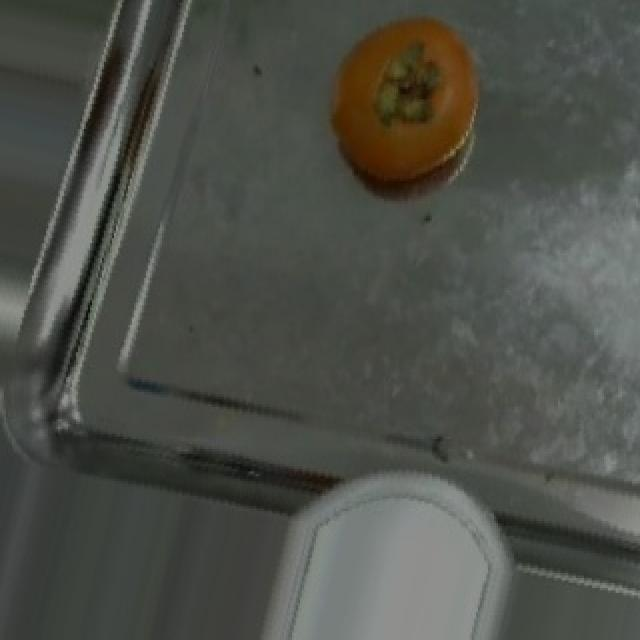Fruit: (306, 0, 504, 206), (272, 469, 502, 640)
